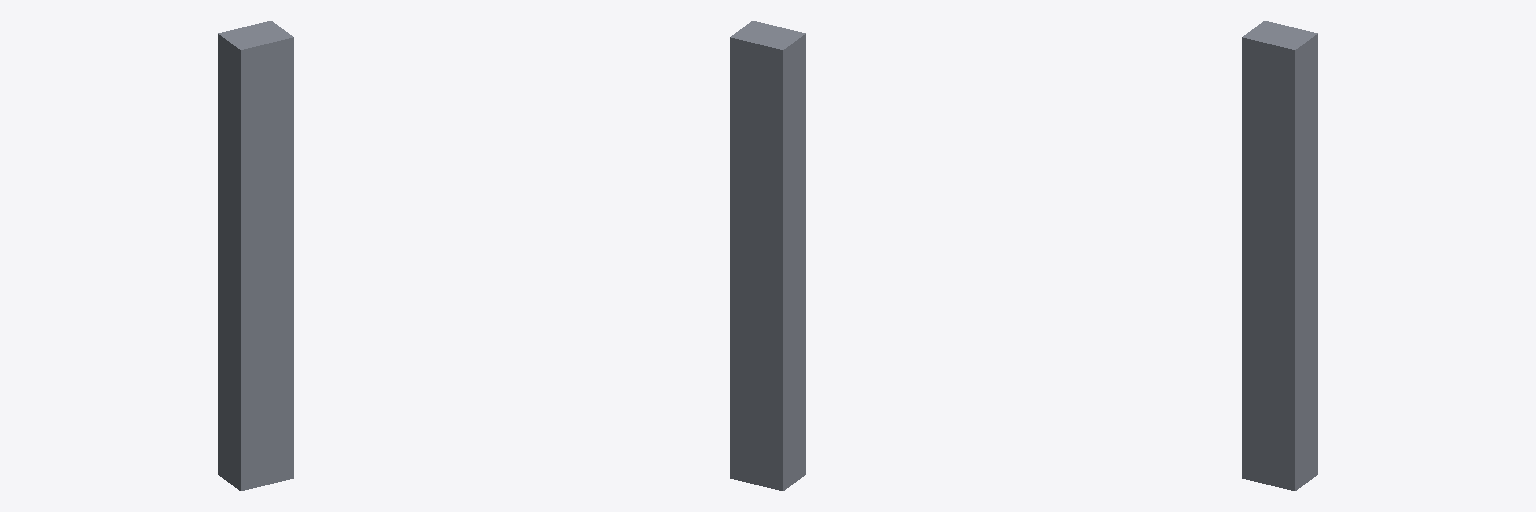
The robot description file, URDF, robot "artmanip_knife_000":
<?xml version='1.0' encoding='utf-8'?>
<robot name="artmanip_knife_000"><link name="link_0"><inertial><mass value="0.034260684353612104" /><inertia ixx="5.401737551689915e-05" iyy="5.440319001707349e-05" izz="1.3338450344318571e-06" ixy="0" ixz="0" iyz="0" /></inertial><visual><geometry><box size="0.01735397007922415 0.01288512900459899 0.13694475950073604" /></geometry><material name="link_0_color"><color rgba=".58 .60 .64 1" /></material></visual><collision><geometry><box size="0.01735397007922415 0.01288512900459899 0.13694475950073604" /></geometry></collision></link><link name="link_1"><inertial><mass value="0.006" /><inertia ixx="4.545e-07" iyy="5e-07" izz="5.45e-08" ixy="0" ixz="0" iyz="0" /></inertial><visual><geometry><mesh filename="slider-shoulder.obj" /></geometry><material name="link_1_color"><color rgba=".12 .13 .15 1" /></material></visual><collision><geometry><mesh filename="slider-shoulder.obj" /></geometry></collision></link><joint name="slider" type="prismatic"><parent link="link_0" /><child link="link_1" /><origin xyz="0.0007816066637773098 0.008385279273633339 0.01014912049284387" /><axis xyz="0 0 1" /><limit lower="-0.03267458688196273" upper="0.017325413118037272" effort="100" velocity="1" /><dynamics damping="1000" friction="0.001" /></joint></robot>

--- Facts derived from the render (not from the file) ---
Views: 3 orthographic renders of the robot side by side, from view 1: azimuth 30°, elevation 25°; view 2: azimuth 150°, elevation 25°; view 3: azimuth 330°, elevation 25°.
Robot: artmanip_knife_000 — 2 links, 1 joints (1 prismatic); root link link_0; default pose: every joint at zero.
Visible links, largest first — view 1: link_0; view 2: link_0; view 3: link_0.
Link boxes in pixels (x1=…): link_0: x1=218, y1=21, x2=293, y2=490; link_0: x1=730, y1=21, x2=805, y2=490; link_0: x1=1242, y1=21, x2=1317, y2=490.
Size in the robot's own frame: 0.0174 by 0.0129 by 0.1369 metres.
Meshes: 1 distinct files referenced, 0 mesh visuals loaded (none loaded); not drawn: 1 (reference not matched to a file when rendering).
